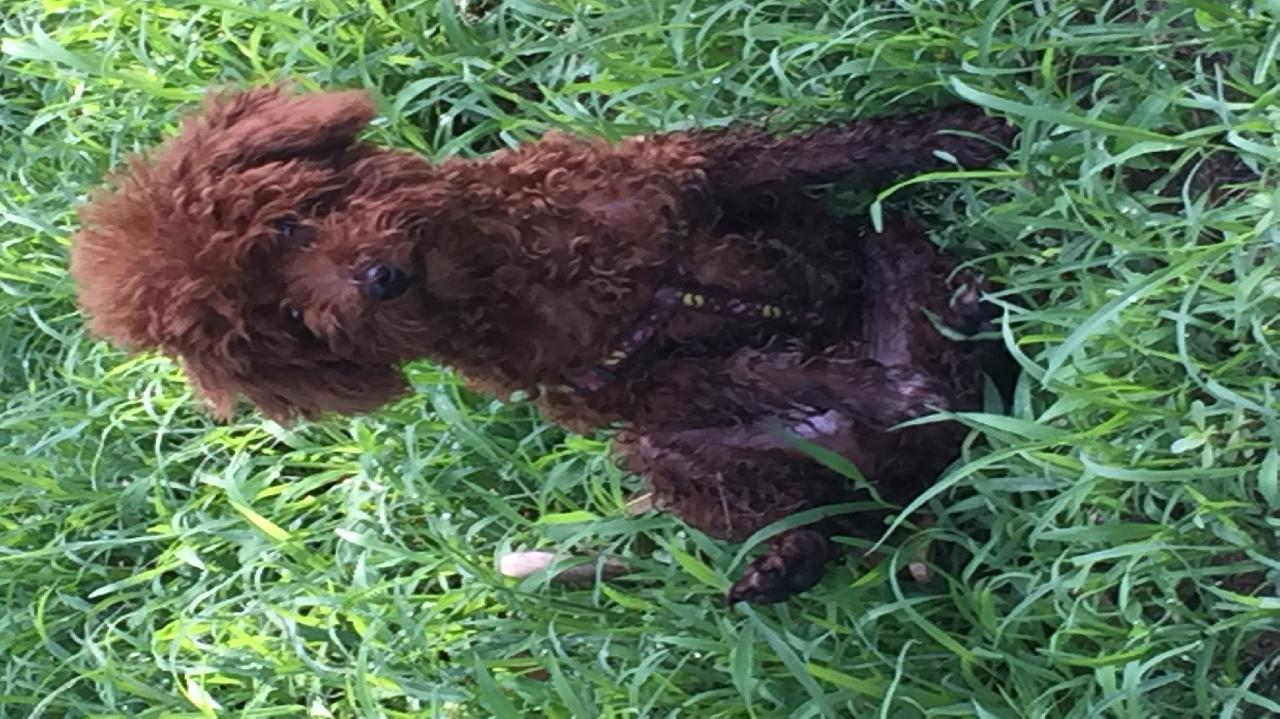coin: (68, 83, 1000, 574)
